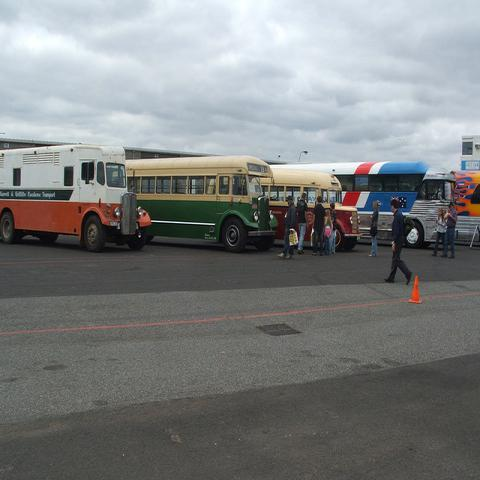bus: (279, 162, 458, 246), (127, 154, 278, 252), (273, 165, 362, 248), (448, 170, 480, 246)
truck: (0, 147, 152, 250)
